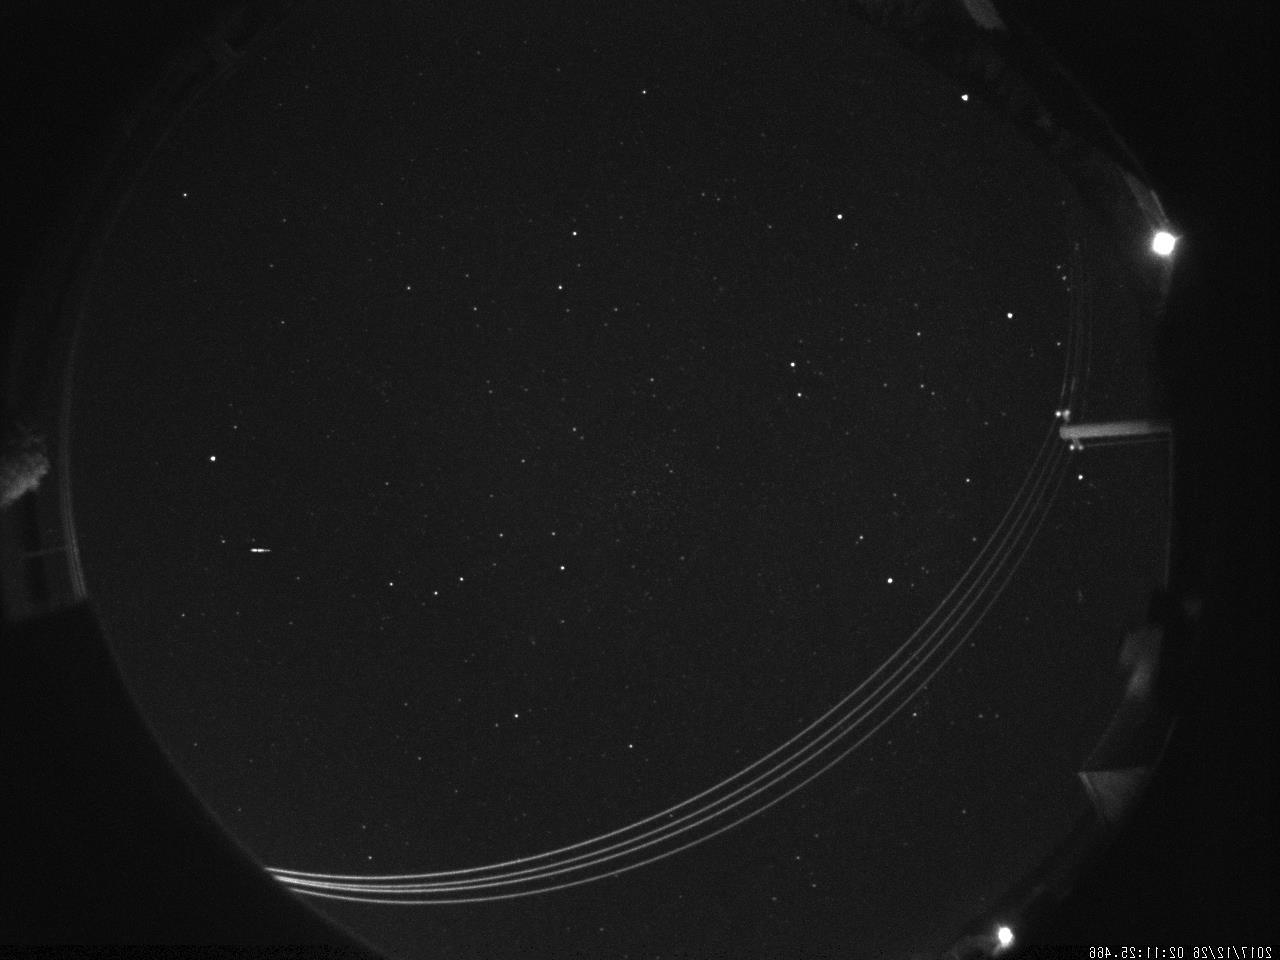meteor: (230, 542, 297, 560)
